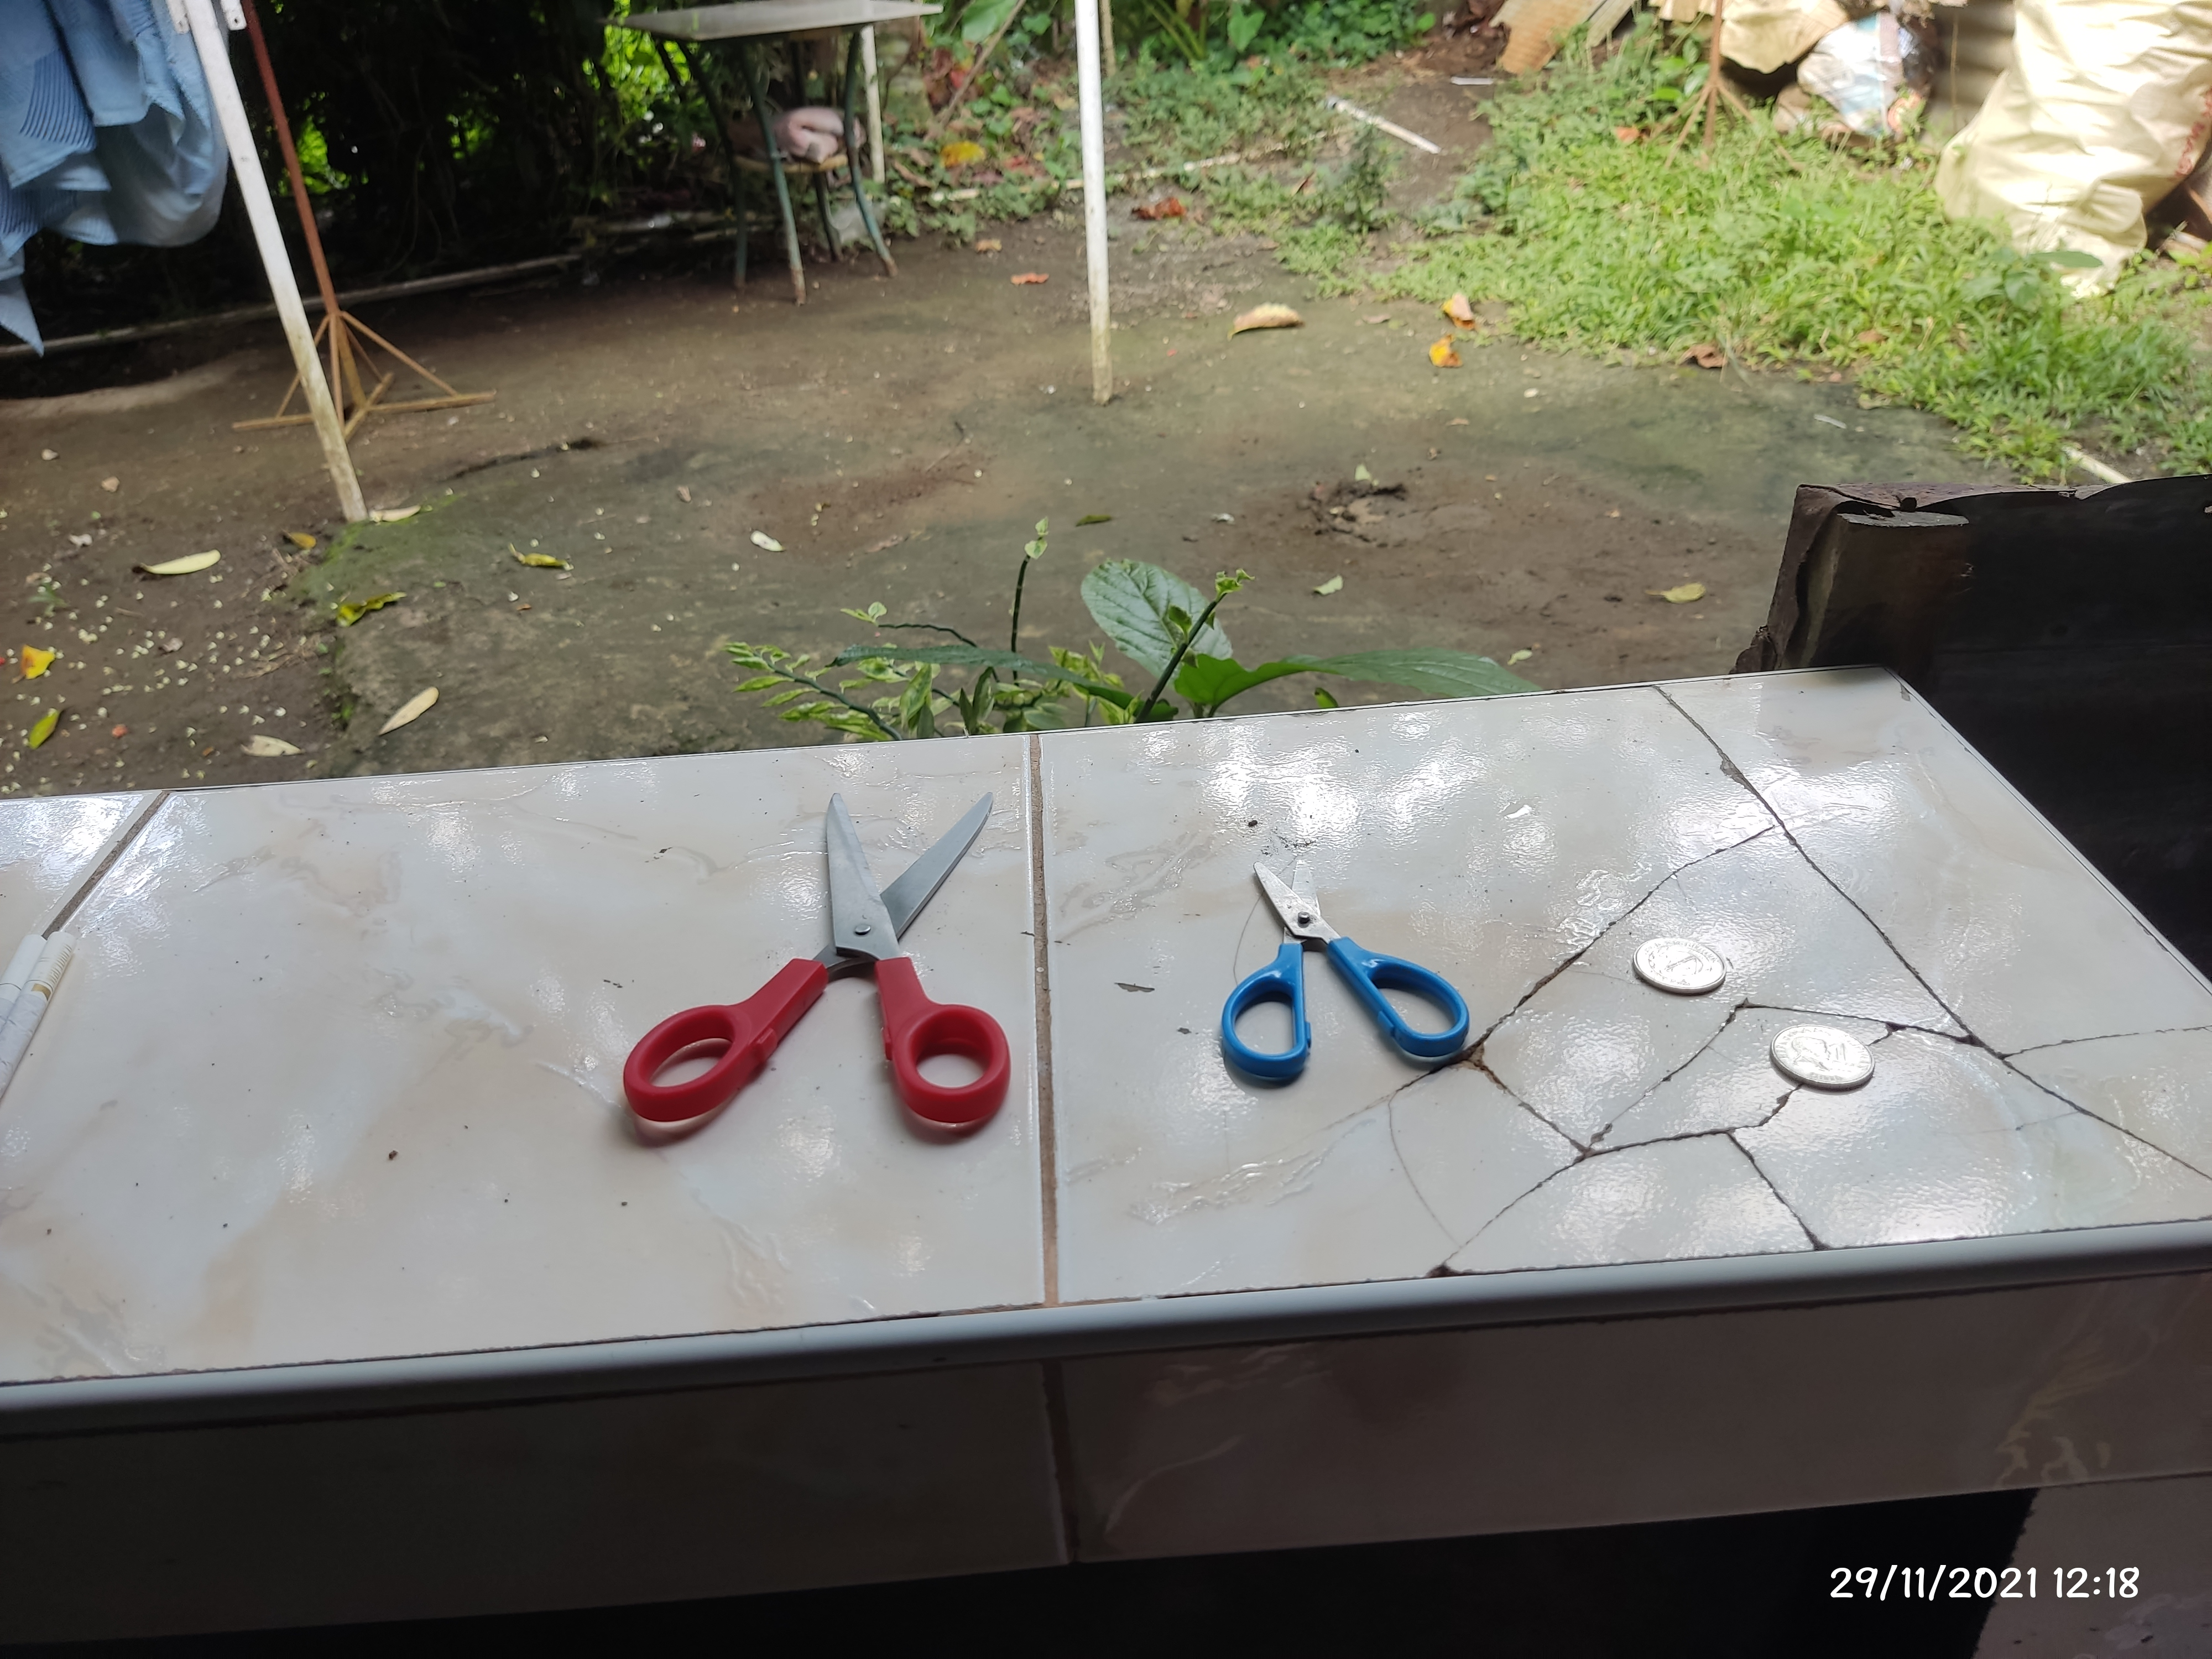scissor: (620, 782, 1007, 1117), (1224, 849, 1475, 1077)
